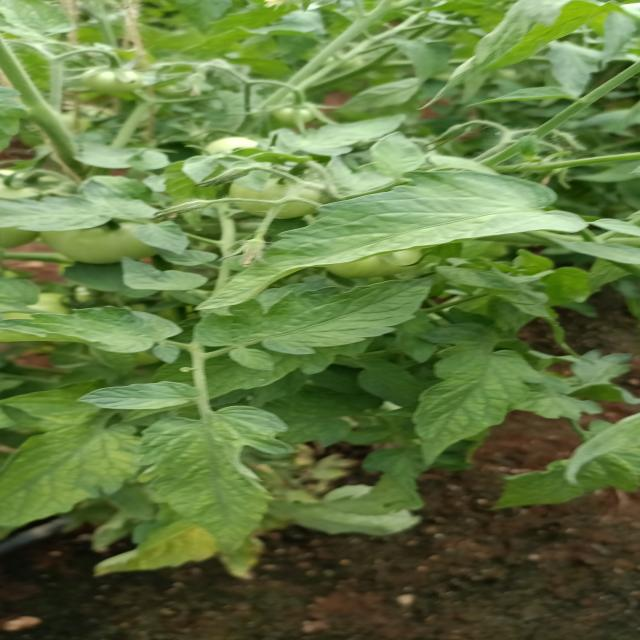Healthy Leaf: (181, 178, 591, 313), (115, 408, 322, 568), (242, 264, 452, 376), (405, 347, 523, 467)
